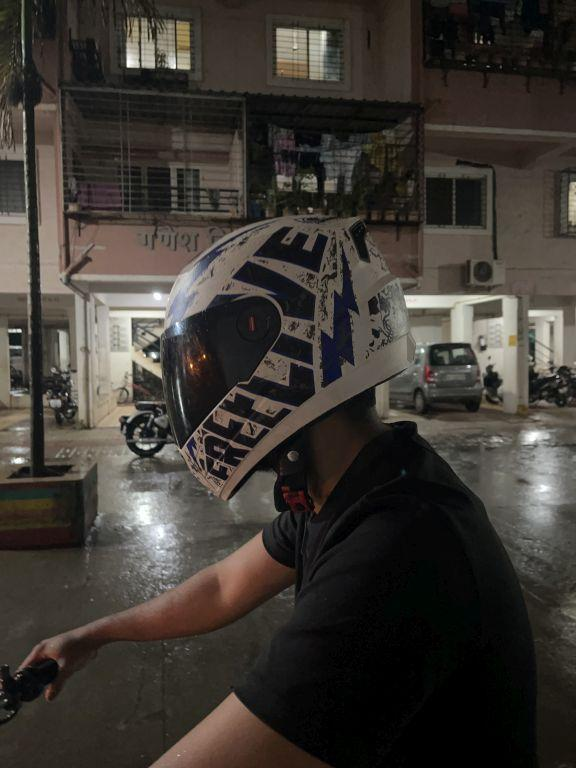helmet: (145, 194, 424, 509)
